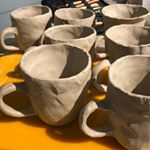cups: (1, 42, 93, 129), (77, 53, 150, 150), (1, 4, 53, 54), (93, 23, 150, 62)
